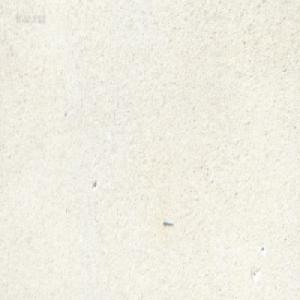Nail: (163, 219, 173, 226)
